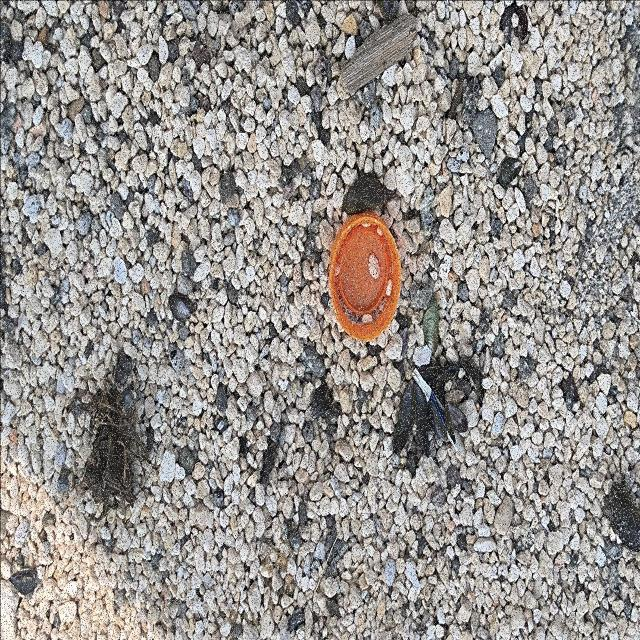plastic_waste: (328, 208, 402, 342)
